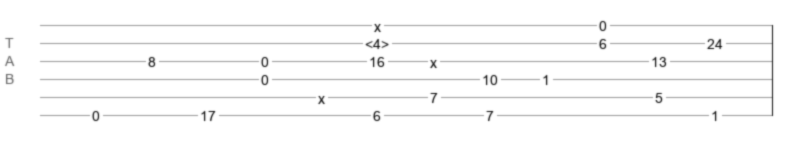0: (92, 108, 100, 118), (261, 54, 269, 64), (261, 72, 269, 82), (599, 18, 607, 28)
1: (542, 72, 550, 82), (711, 108, 719, 118)
10: (482, 72, 498, 82)
13: (651, 54, 667, 64)
16: (369, 54, 385, 64)
17: (200, 108, 216, 118)
24: (707, 36, 723, 46)
5: (655, 90, 663, 100)
6: (373, 108, 381, 118), (599, 36, 607, 46)
7: (430, 90, 438, 100), (486, 108, 494, 118)
8: (148, 54, 156, 64)
harmonic: (365, 36, 389, 46)
x: (318, 91, 325, 99), (374, 19, 381, 27), (430, 55, 437, 63)
